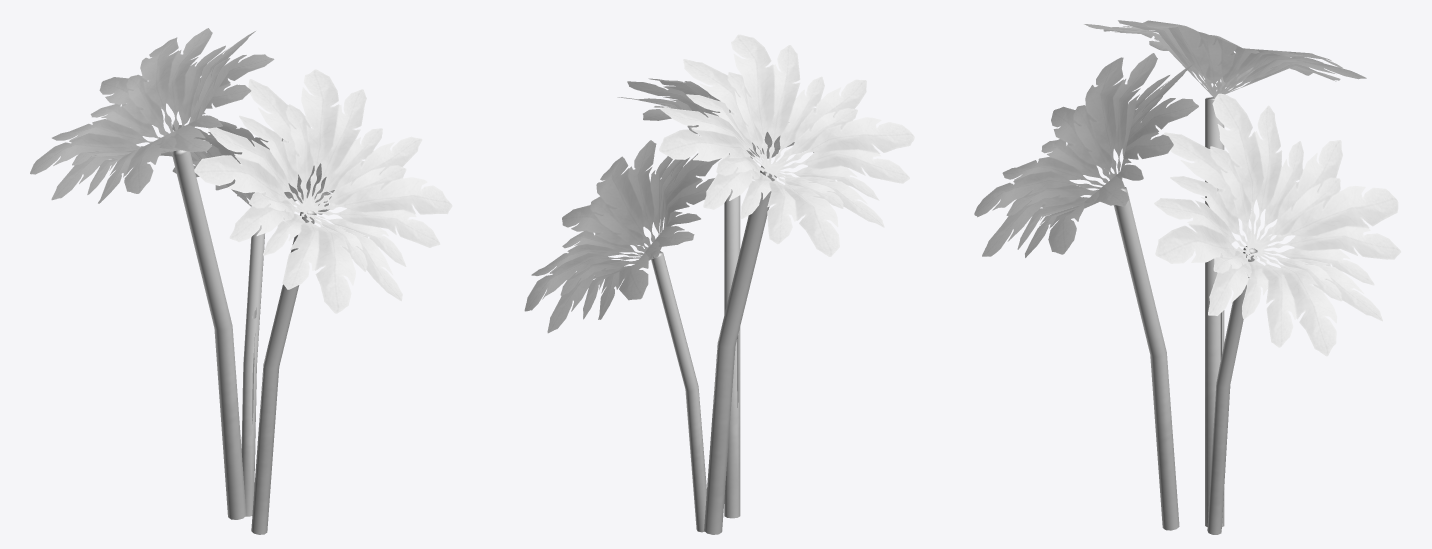
File: TallGrass_3.fbx
3 renders of one model, left to right at view 1: azimuth 30°, elevation 25°; view 2: azimuth 150°, elevation 25°; view 3: azimuth 270°, elevation 25°, orthographic. The views are drawn at different scales.
Visible parts, largest first — view 1: TallGrass_3; view 2: TallGrass_3; view 3: TallGrass_3.
Part boxes in pixels (x1,y1,x2,y2): TallGrass_3: (30, 28, 452, 534); TallGrass_3: (524, 34, 914, 534); TallGrass_3: (974, 20, 1400, 534).
Size of the model in its own units: 0.9298 by 1.19 by 0.961.
